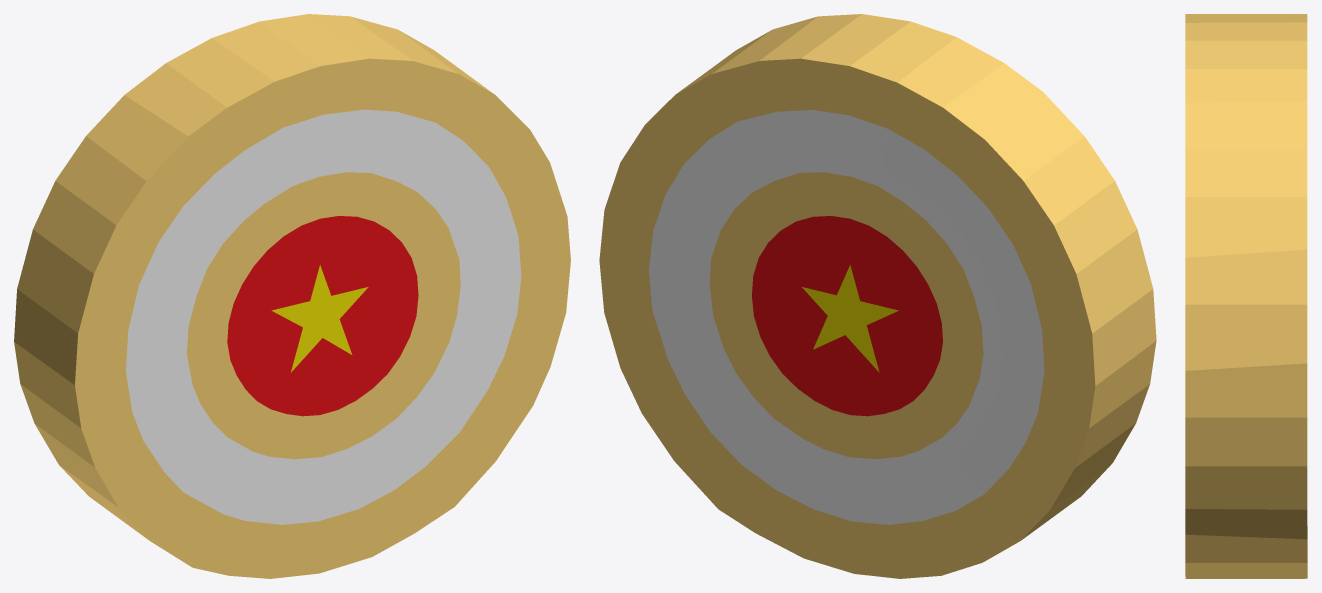
File: mato-thor.fbx
The picture shows the model from 3 angles, left to right: view 1: azimuth 30°, elevation 25°; view 2: azimuth 150°, elevation 25°; view 3: azimuth 270°, elevation 25°; orthographic projection.
Visible parts, largest first — view 1: Cube; view 2: Cube; view 3: Cube.
Part boxes in pixels (x1,y1,x2,y2): Cube: [14, 14, 570, 578]; Cube: [599, 14, 1156, 578]; Cube: [1185, 14, 1307, 578].
Size of the model in its own units: 938 by 916 by 201.
